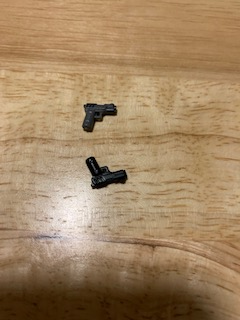pistol: (83, 155, 131, 191), (74, 101, 120, 134)
